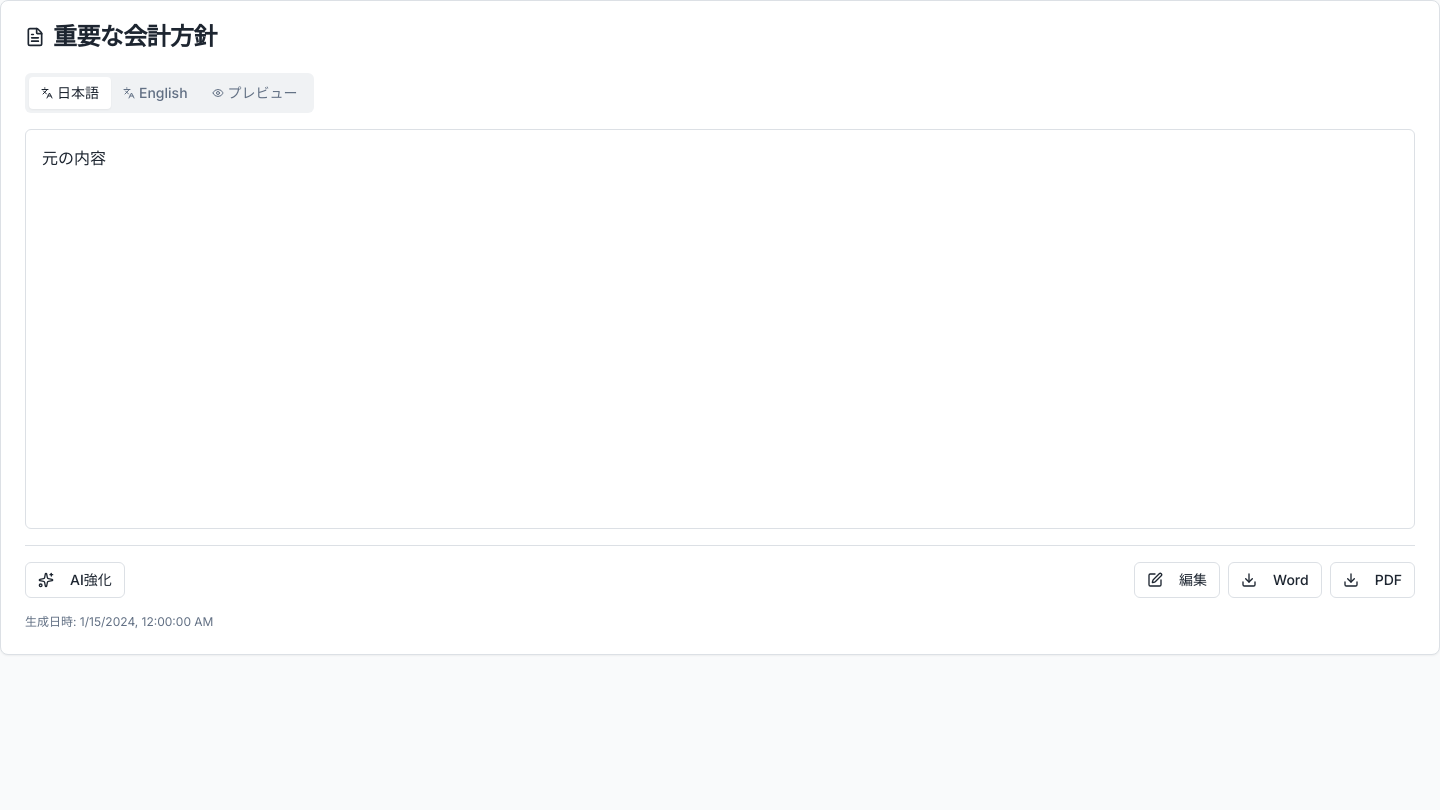
Test: DisclosureEditor — editing flow › resets edited content and exits editing on cancel
Click the button "編集". click: (1177, 580)
box: [1134, 562, 1220, 598]
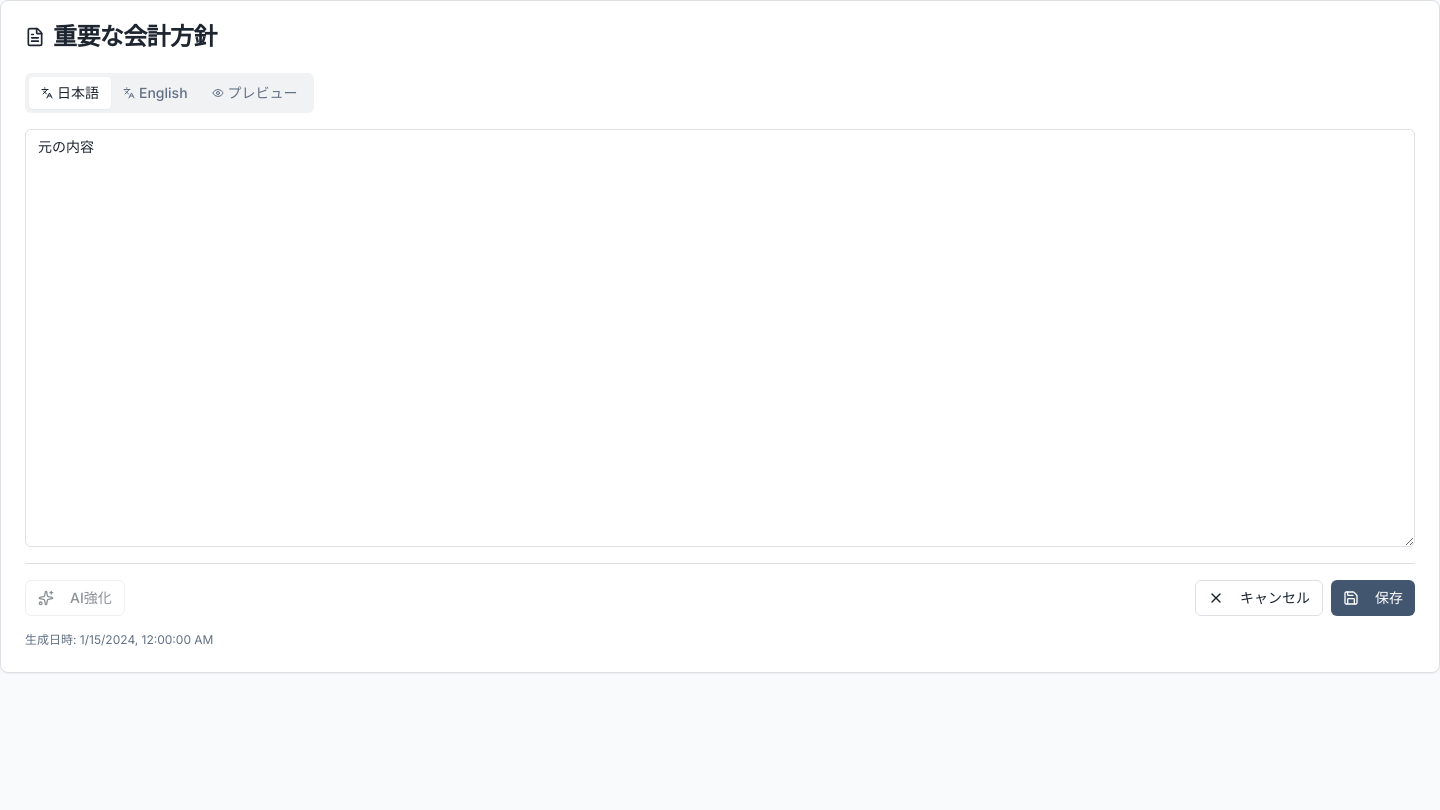
Replace the text in the text box with "一時的な変更". click: (720, 338)
box: [25, 129, 1415, 547]
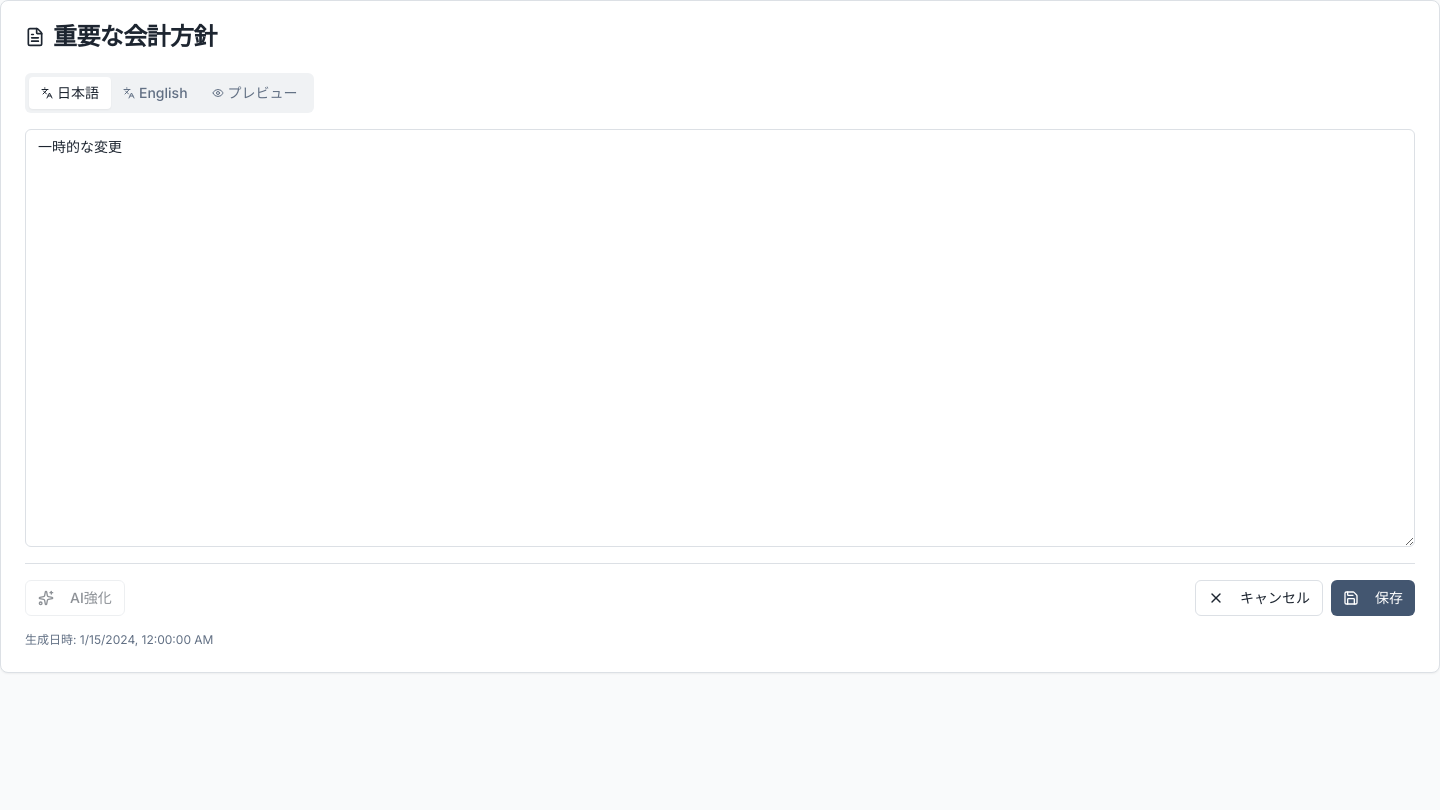
Click the button "キャンセル". click: (1259, 598)
box: [1195, 580, 1323, 616]
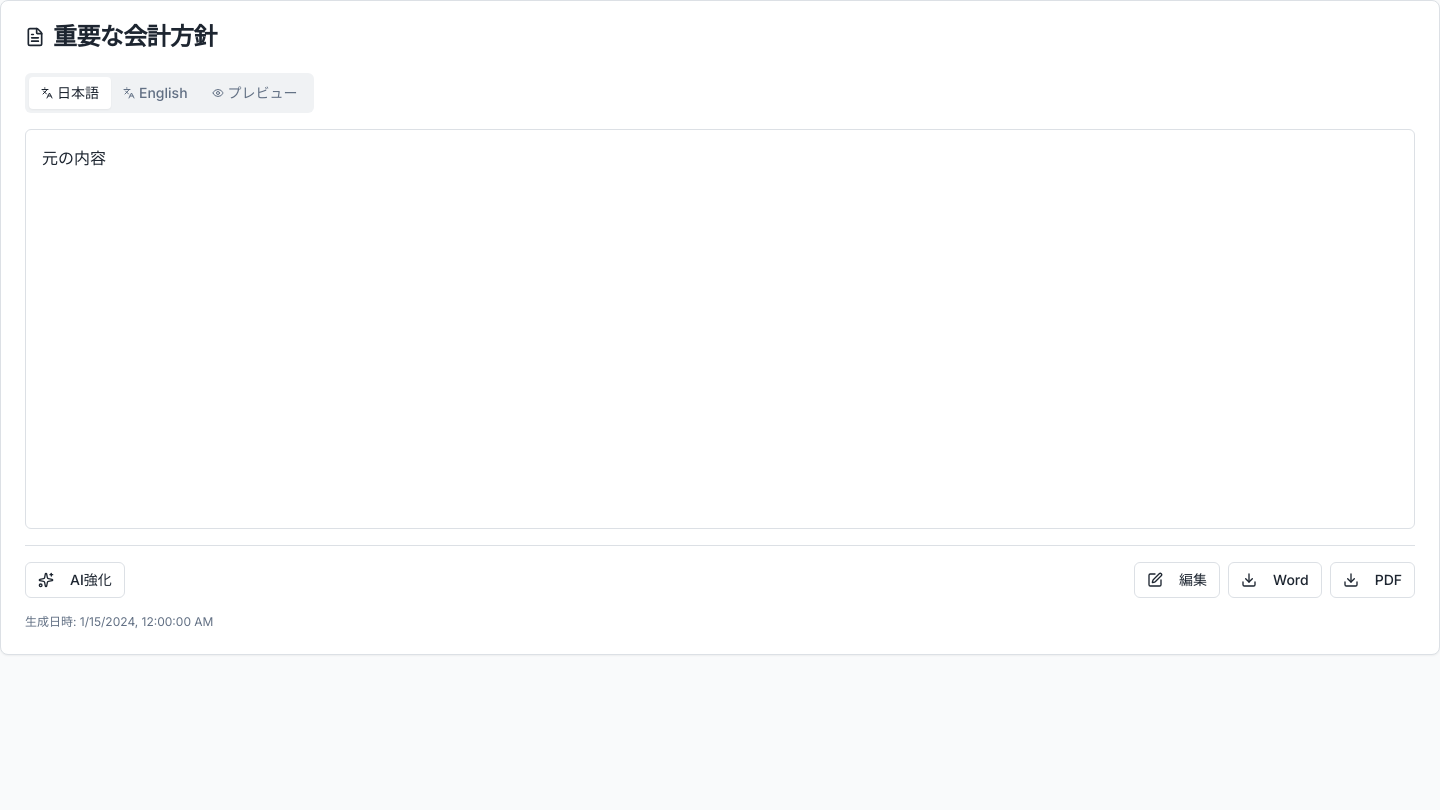
Expected: the button "編集" is shown, [1134, 562, 1220, 598]
Expected: the text "元の内容" is shown, [42, 148, 106, 168]
